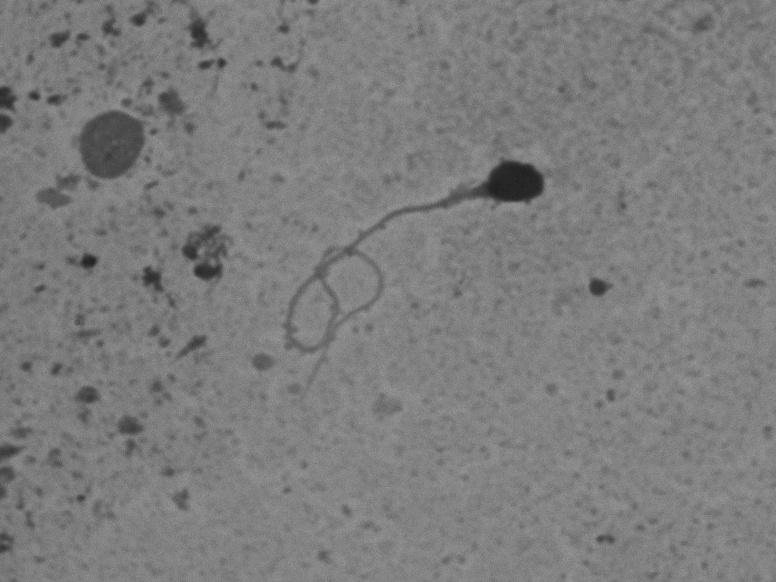Abnormal: (259, 114, 561, 398)
